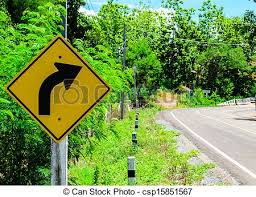right: (3, 31, 114, 142)
